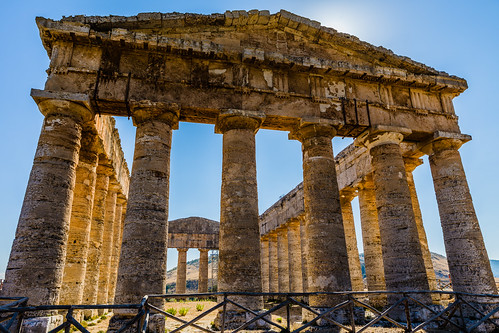building: (1, 1, 499, 333)
